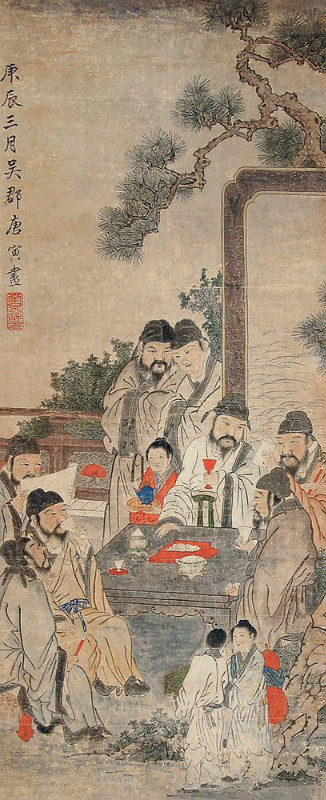bowl: (128, 499, 161, 516), (181, 556, 205, 577), (128, 532, 146, 558), (116, 561, 126, 573)
decoration: (232, 177, 326, 398)
kid: (186, 633, 230, 779), (234, 625, 272, 783), (136, 451, 171, 522)
man: (48, 505, 101, 739), (250, 477, 310, 641), (181, 412, 256, 518), (3, 449, 42, 623), (130, 339, 219, 411), (104, 382, 141, 522), (271, 418, 323, 478), (99, 620, 131, 689)
table: (117, 529, 252, 599)
tree: (219, 5, 278, 126), (116, 140, 178, 248), (281, 105, 326, 175), (280, 16, 326, 61), (177, 168, 209, 191), (199, 126, 236, 144)
